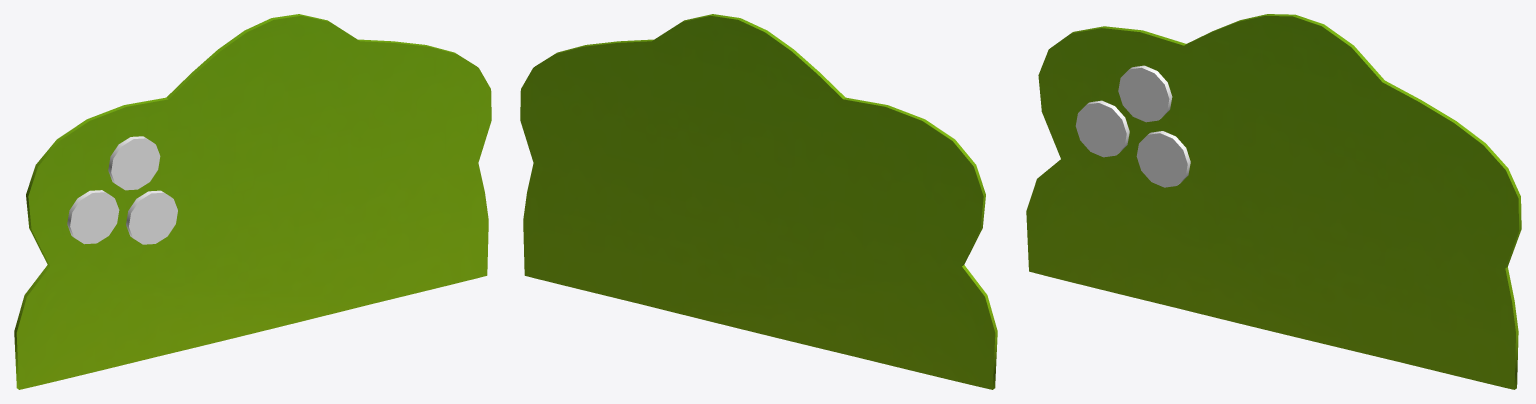
File: obj-shrub5.FBX
3 views of the same model, side by side, from view 1: azimuth 30°, elevation 25°; view 2: azimuth 150°, elevation 25°; view 3: azimuth 330°, elevation 25° (orthographic). The views are drawn at different scales.
Visible parts, largest first — view 1: obj-shrub5; view 2: obj-shrub5; view 3: obj-shrub5.
Boxes of the visible parts, left/top/right/bottom form: obj-shrub5: left=14, top=14, right=491, bottom=389; obj-shrub5: left=520, top=14, right=997, bottom=389; obj-shrub5: left=1026, top=14, right=1521, bottom=389.
Bounding box in the file's own units: 4.96 × 3.08 × 0.0964.
